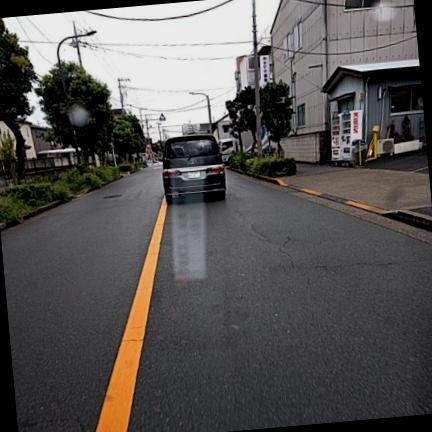Road: (127, 173, 431, 431)
